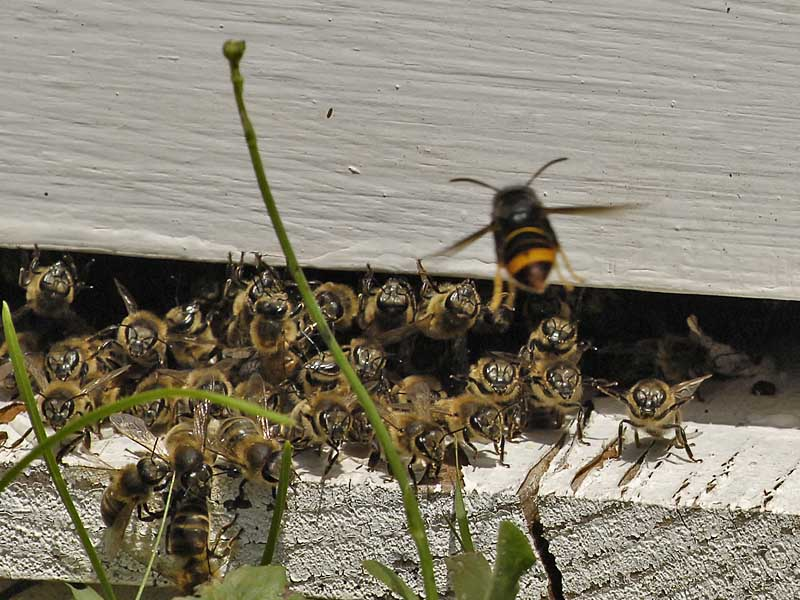bee: (110, 277, 234, 412), (291, 384, 372, 476), (238, 297, 305, 382), (374, 407, 460, 472), (610, 383, 692, 449), (90, 455, 170, 522), (20, 254, 98, 317), (224, 417, 294, 487), (162, 420, 219, 498), (446, 391, 514, 454), (355, 276, 426, 334), (421, 273, 481, 340), (532, 362, 589, 430), (463, 349, 528, 408), (532, 313, 591, 373), (323, 333, 393, 381), (29, 389, 87, 442), (34, 341, 105, 384)
hornet: (455, 179, 593, 300)
